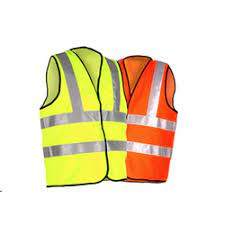jacket: (28, 27, 128, 193), (115, 34, 179, 197)
